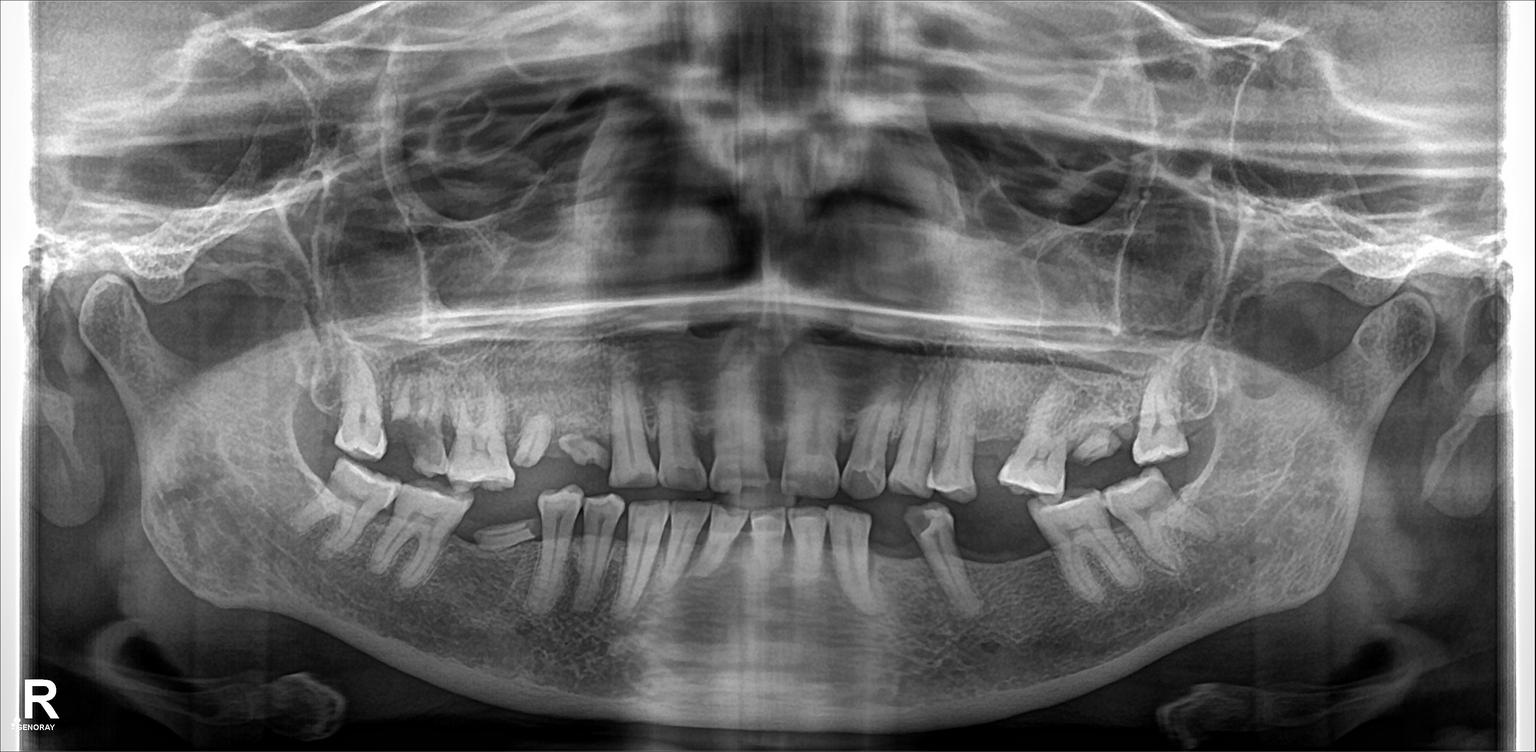Dental Caries: (387, 419, 441, 456), (847, 469, 882, 495)
Missing Tooth: (279, 356, 337, 456), (953, 508, 1001, 608), (1006, 497, 1049, 606), (968, 402, 1010, 495), (1177, 367, 1213, 457), (877, 516, 907, 599)
Retained Root: (480, 495, 539, 582), (402, 376, 451, 480), (1073, 382, 1125, 469), (559, 372, 599, 465), (512, 374, 548, 472)
